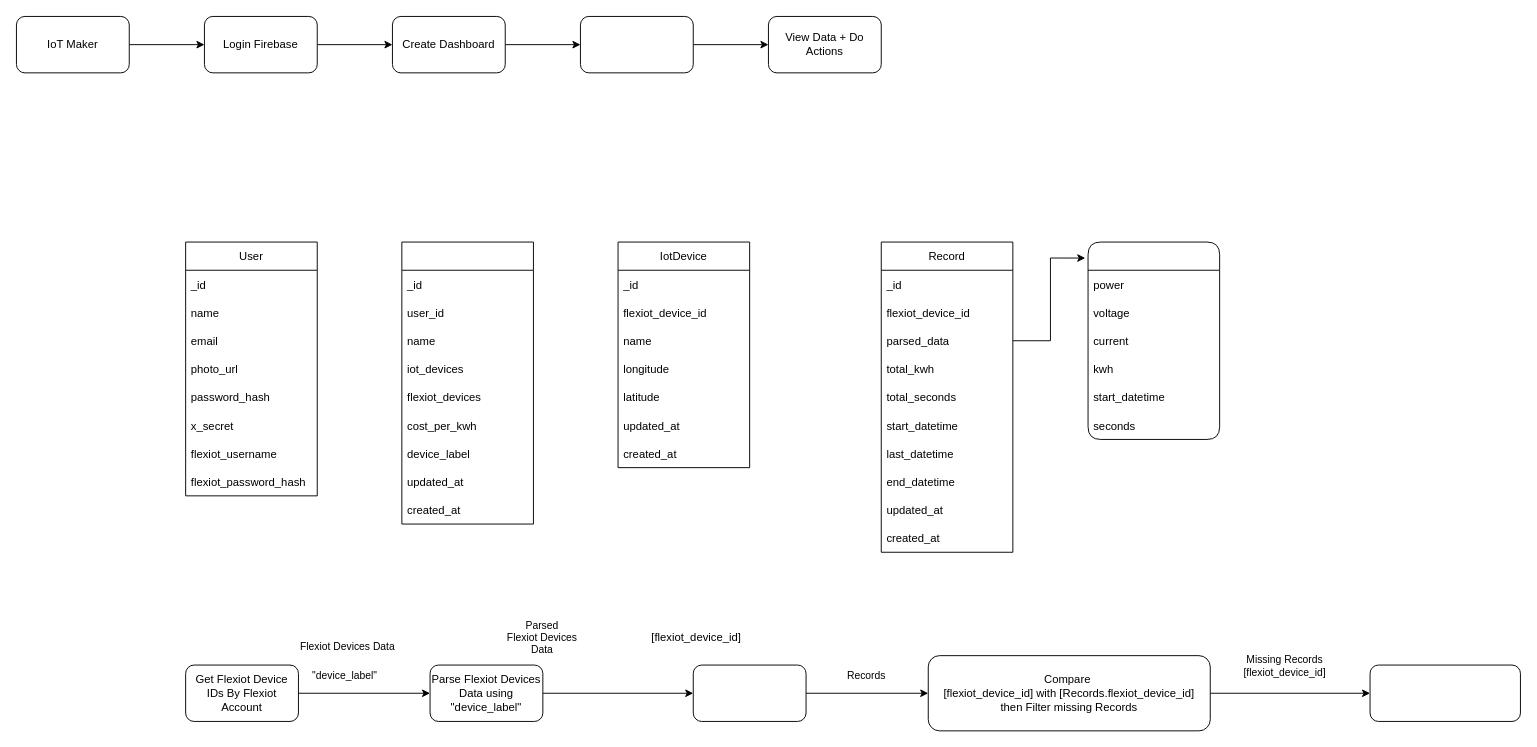
This 1537x747 diagram has some shape labels left out. Each missing label, with the box of its shape:
Add Smart PJU: (580, 16, 693, 73)
Create Records from [flexiot_device_id]: (1369, 664, 1520, 721)
Dashboard: (401, 241, 533, 524)
Get Records By [flexiot_device_id]: (692, 664, 806, 721)
Parsed Data: (1087, 241, 1220, 439)
